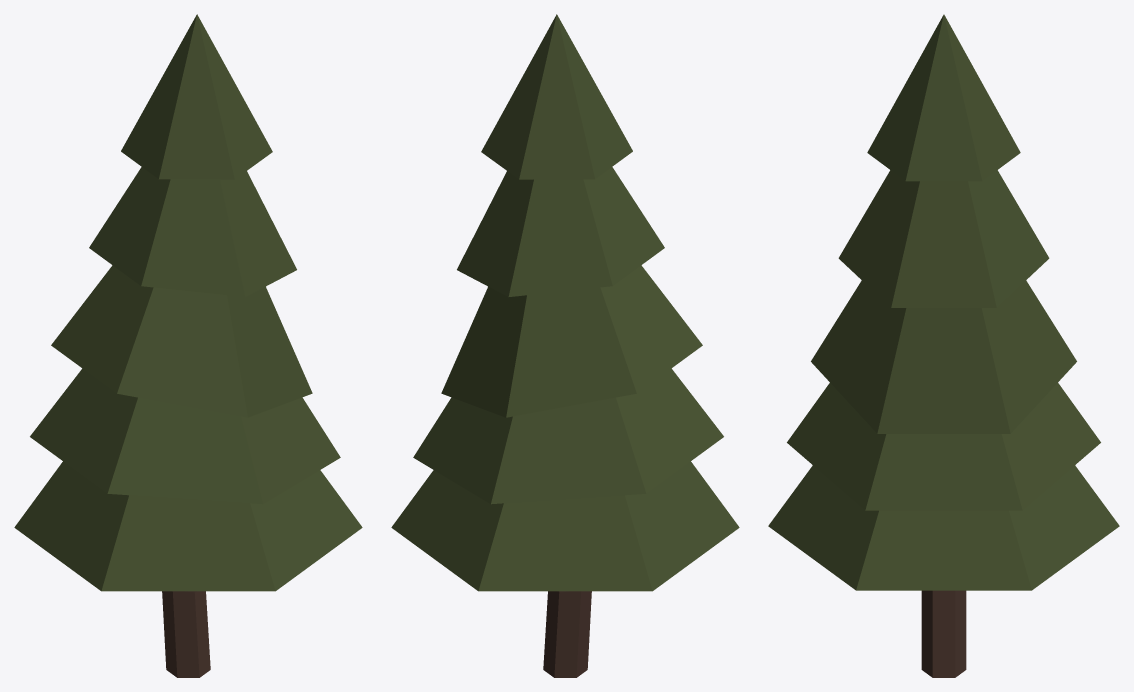
Rendered from Tree_Type1_04.glb.
3 views of the same model, side by side, from view 1: azimuth 30°, elevation 25°; view 2: azimuth 150°, elevation 25°; view 3: azimuth 270°, elevation 25° (orthographic).
Visible parts, largest first — view 1: Tree Type1 04 Model; view 2: Tree Type1 04 Model; view 3: Tree Type1 04 Model.
Part boxes in pixels (x1,y1,x2,y2): Tree Type1 04 Model: (14, 14, 362, 677); Tree Type1 04 Model: (391, 14, 739, 677); Tree Type1 04 Model: (768, 14, 1119, 677).
Size of the model in its own units: 1.84 by 4.39 by 2.12.
Materials: 1 (1 with a texture image).
